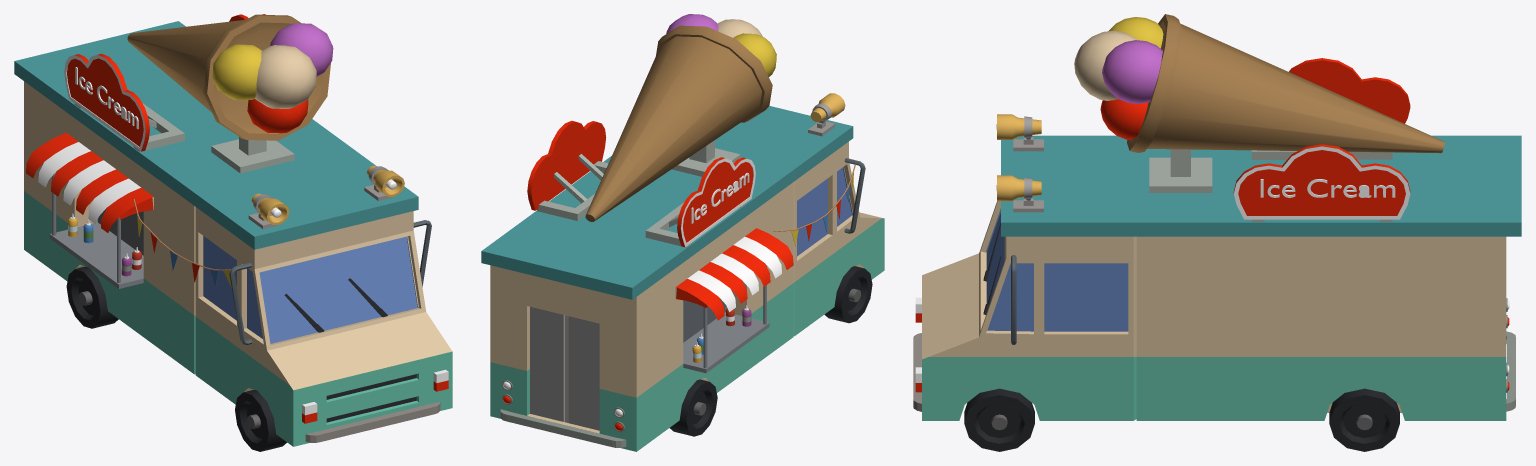
Rendered from Ice Cream Truck_1.fbx.
The picture shows the model from 3 angles, left to right: view 1: azimuth 30°, elevation 25°; view 2: azimuth 150°, elevation 25°; view 3: azimuth 270°, elevation 25°; orthographic projection. The views are drawn at different scales.
Parts seen in each view (by area): view 1: Ice Cream Truck_1; view 2: Ice Cream Truck_1; view 3: Ice Cream Truck_1.
Part boxes in pixels (box(x1,y1,x2,y2)): Ice Cream Truck_1: box(14, 14, 452, 451); Ice Cream Truck_1: box(481, 14, 884, 451); Ice Cream Truck_1: box(913, 14, 1521, 451).
Size of the model in its own units: 341 by 519 by 742.
